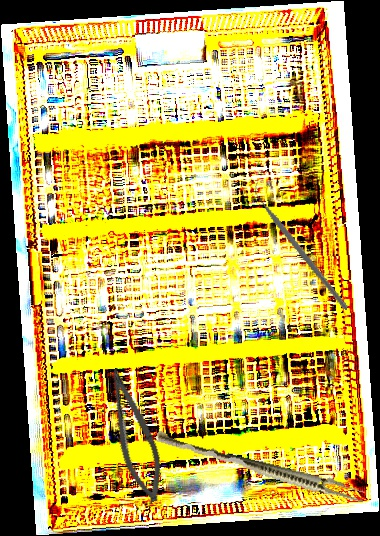Chopper: (226, 179, 378, 311)
Micro Scissor: (93, 364, 175, 507)
Tissue Forceps: (153, 430, 367, 505)
